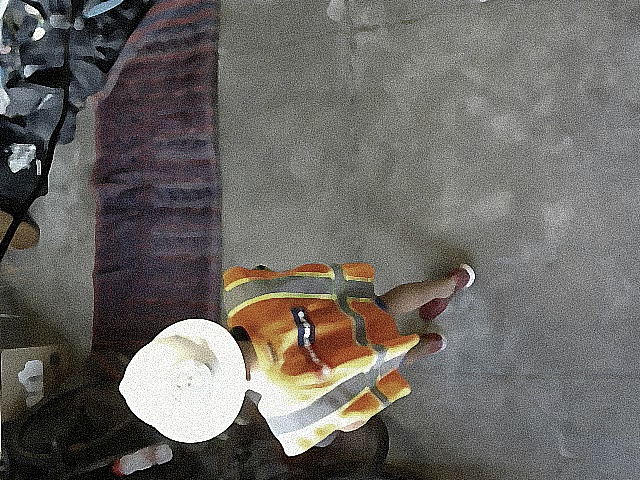eight: (165, 357, 213, 407)
